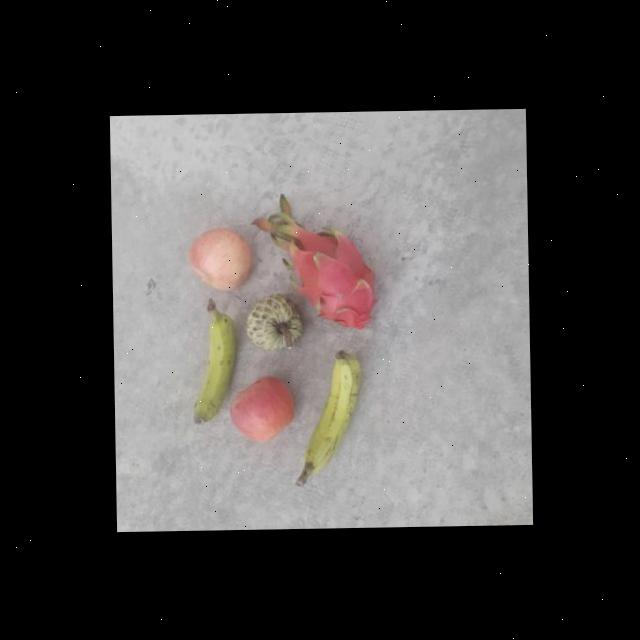Sakya fruit: (242, 294, 300, 354)
apple: (228, 375, 294, 442), (187, 230, 250, 294)
banana: (296, 346, 365, 476), (182, 308, 239, 422)
pitaya: (295, 231, 382, 335)
